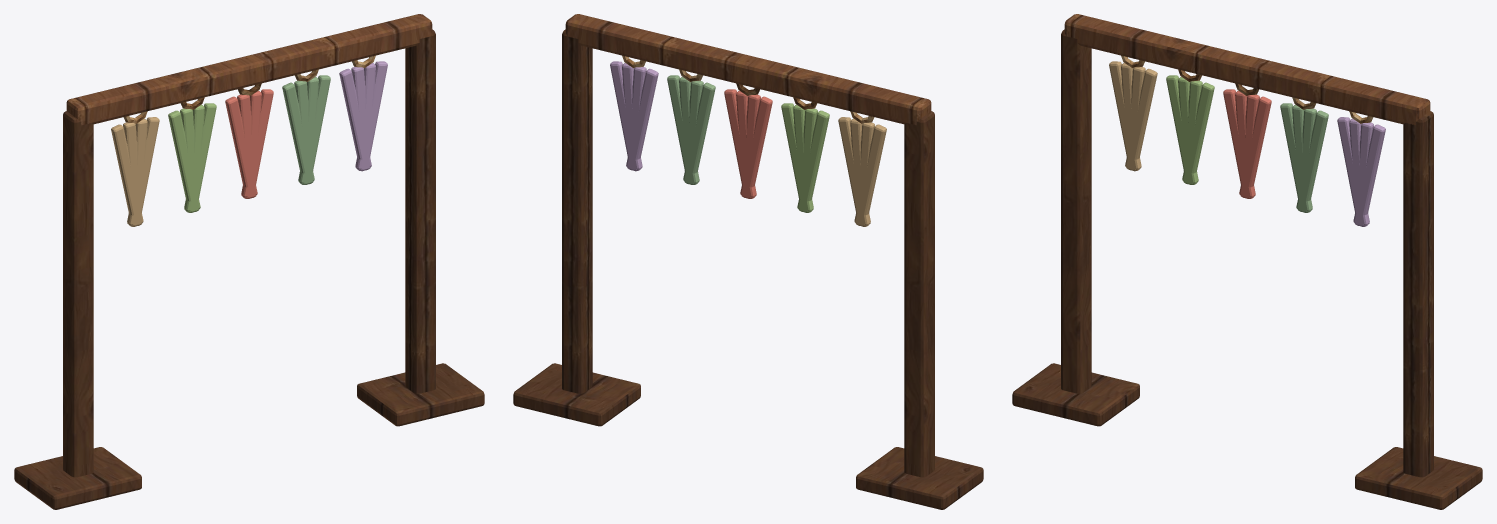
The model's file is hanging_herbs.glb.
The picture shows the model from 3 angles, left to right: view 1: azimuth 30°, elevation 25°; view 2: azimuth 150°, elevation 25°; view 3: azimuth 330°, elevation 25°; orthographic projection.
Visible parts, largest first — view 1: model; view 2: model; view 3: model.
Boxes of the visible parts, x1=… form: model: x1=14, y1=14, x2=484, y2=509; model: x1=513, y1=14, x2=983, y2=509; model: x1=1012, y1=14, x2=1482, y2=509.
Size of the model in its own units: 1.21 by 1.03 by 0.2.
Materials: 9 (4 with a texture image).
